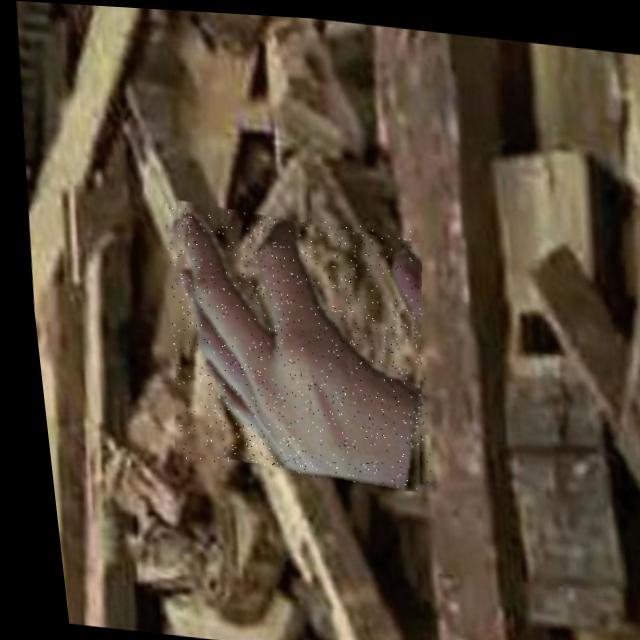Person in Rubble: (147, 200, 435, 486)
